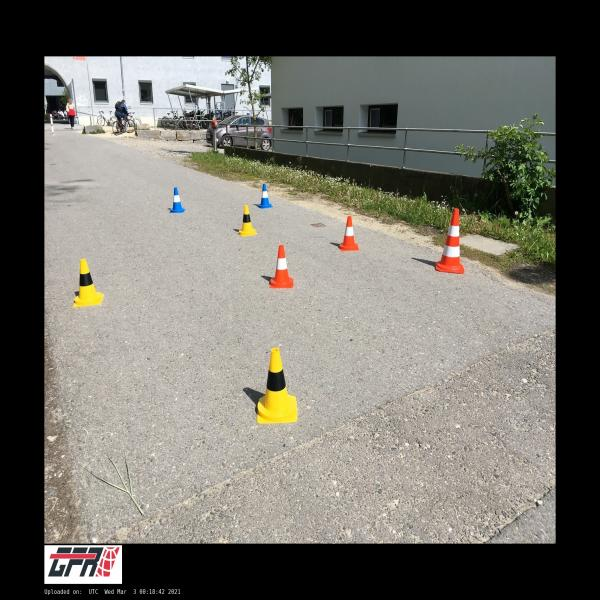blue_cone: (169, 188, 185, 213), (257, 184, 273, 208)
large_orange_cone: (436, 208, 464, 274)
orange_cone: (270, 245, 293, 288), (340, 216, 359, 250)
yellow_cone: (257, 348, 297, 423), (73, 259, 104, 306), (237, 204, 258, 236)
